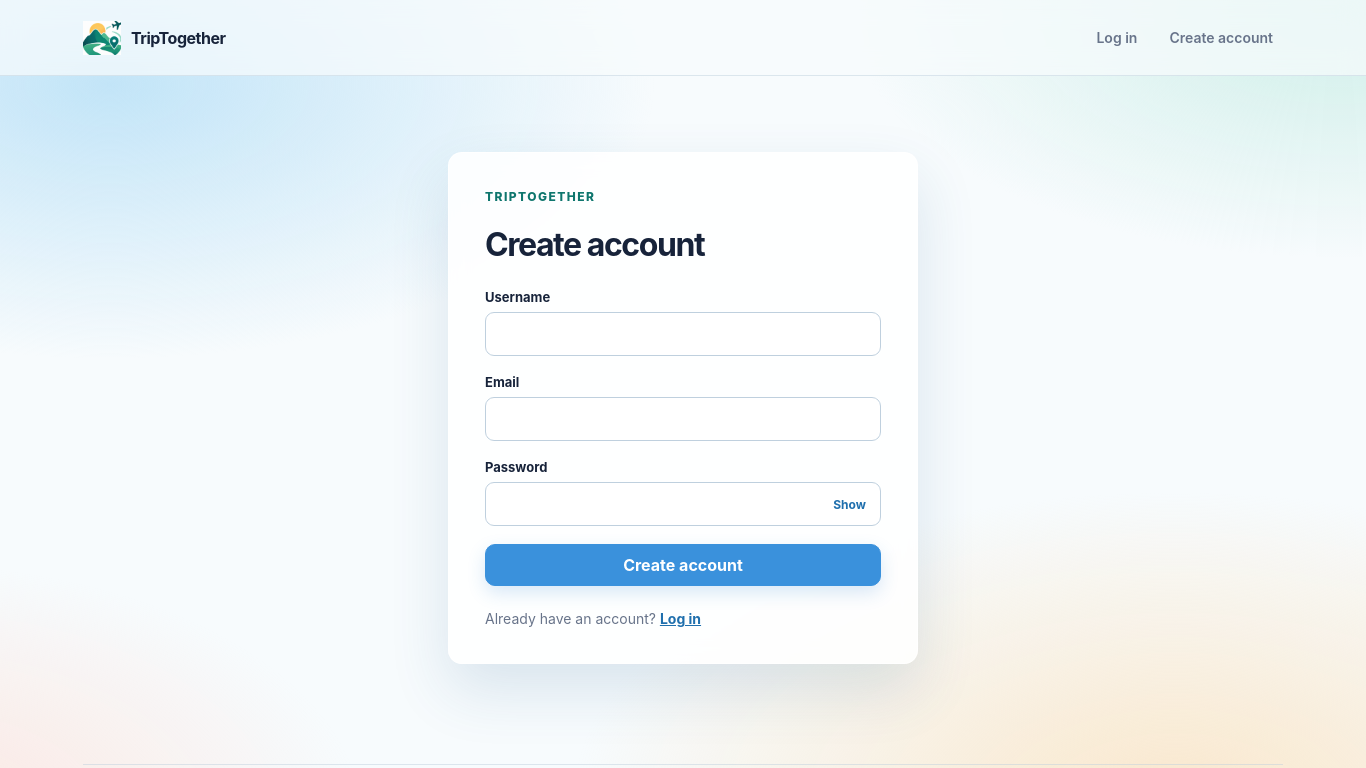
Test: Register and login pages › shows USERNAME_ALREADY_EXISTS near its field
Type "reader" into the field labelled "Username".
click(683, 334); type("reader")  # box [485,312,881,356]
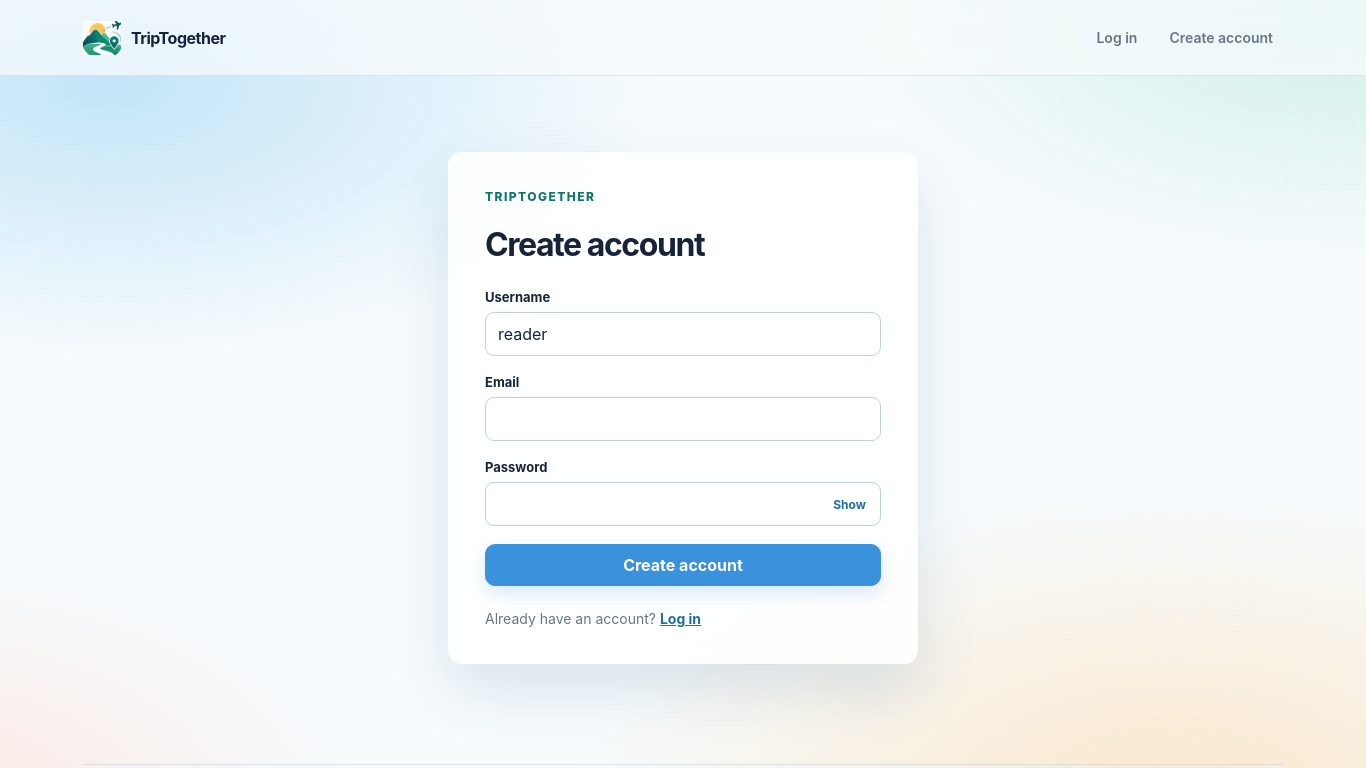
Type "reader@example.com" into the field labelled "Email".
click(683, 419); type("reader@example.com")  # box [485,397,881,441]
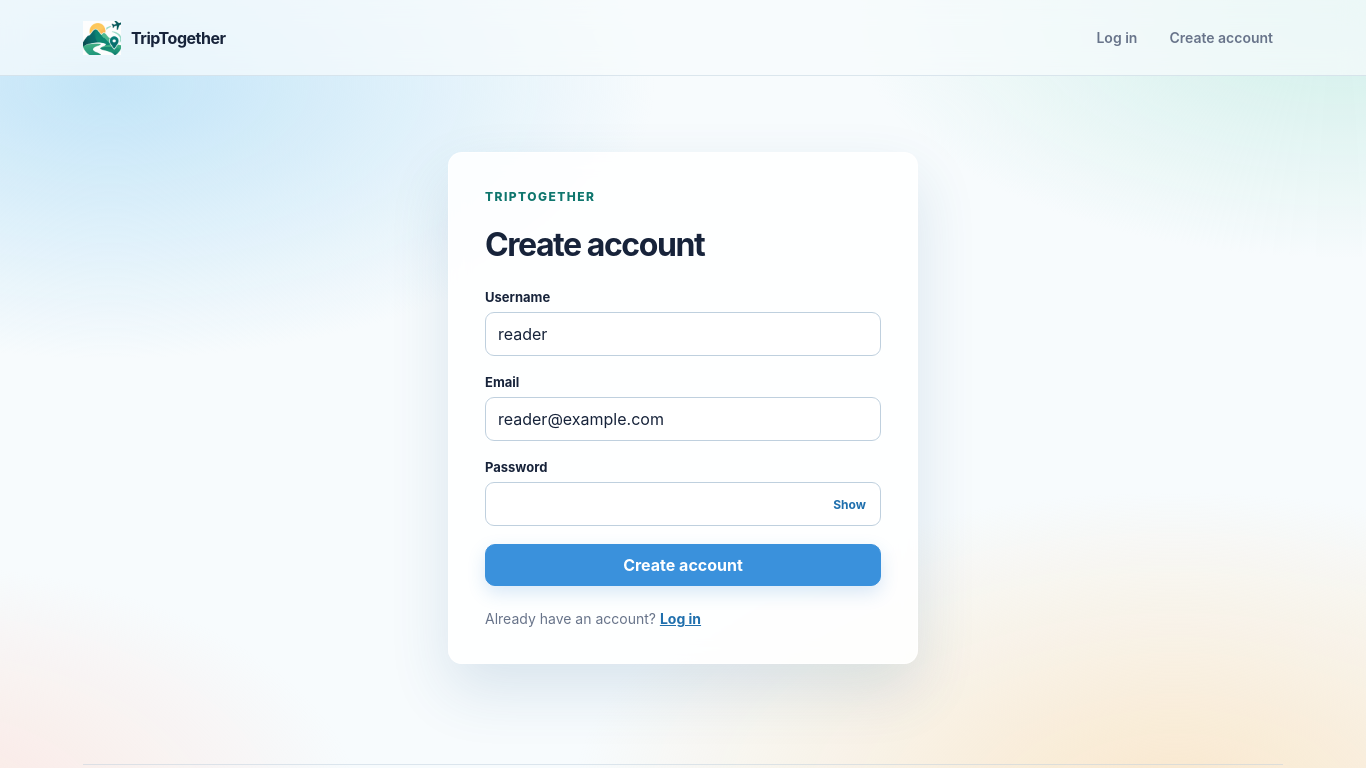
Type " local-test-input " into the password field labelled "Password".
click(683, 504); type(" local-test-input ")  # box [485,482,881,526]
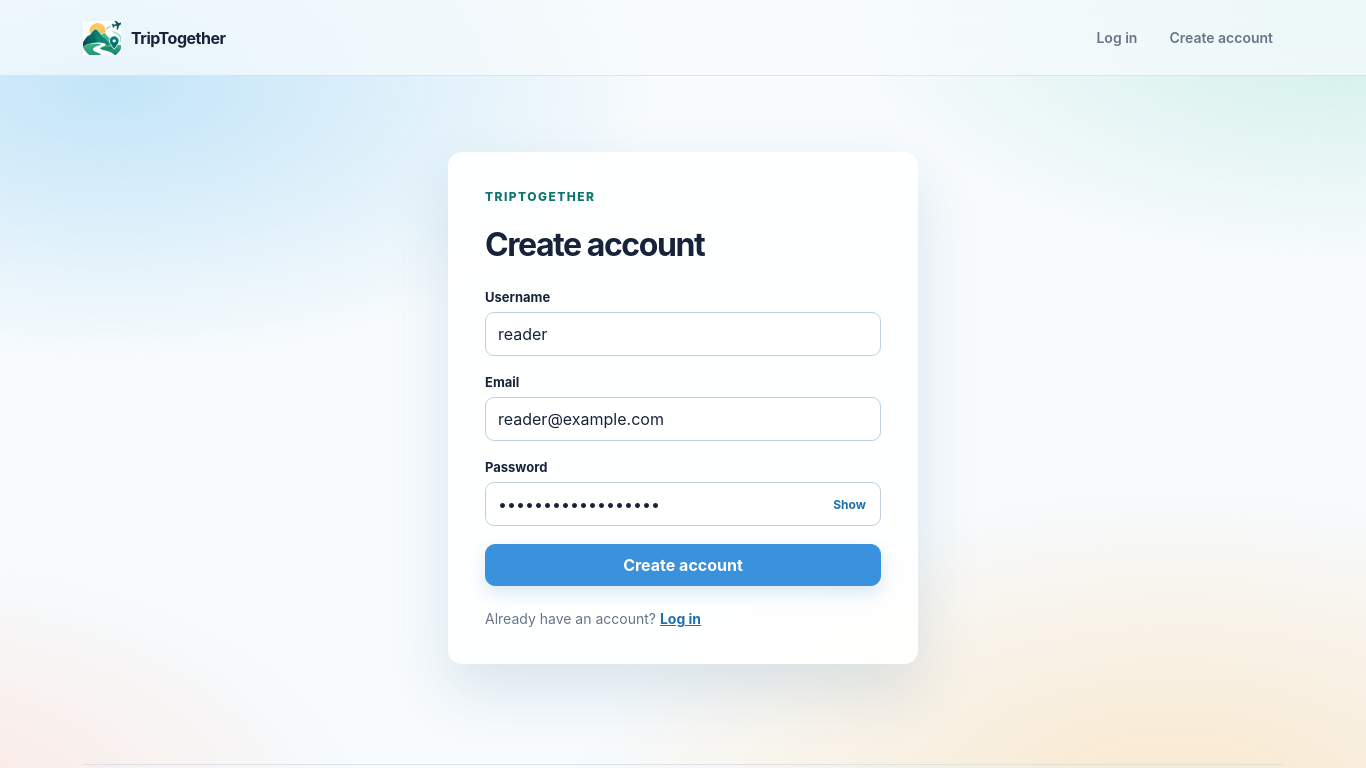
Click the button "Create account".
click(683, 565)  # box [485,544,881,586]
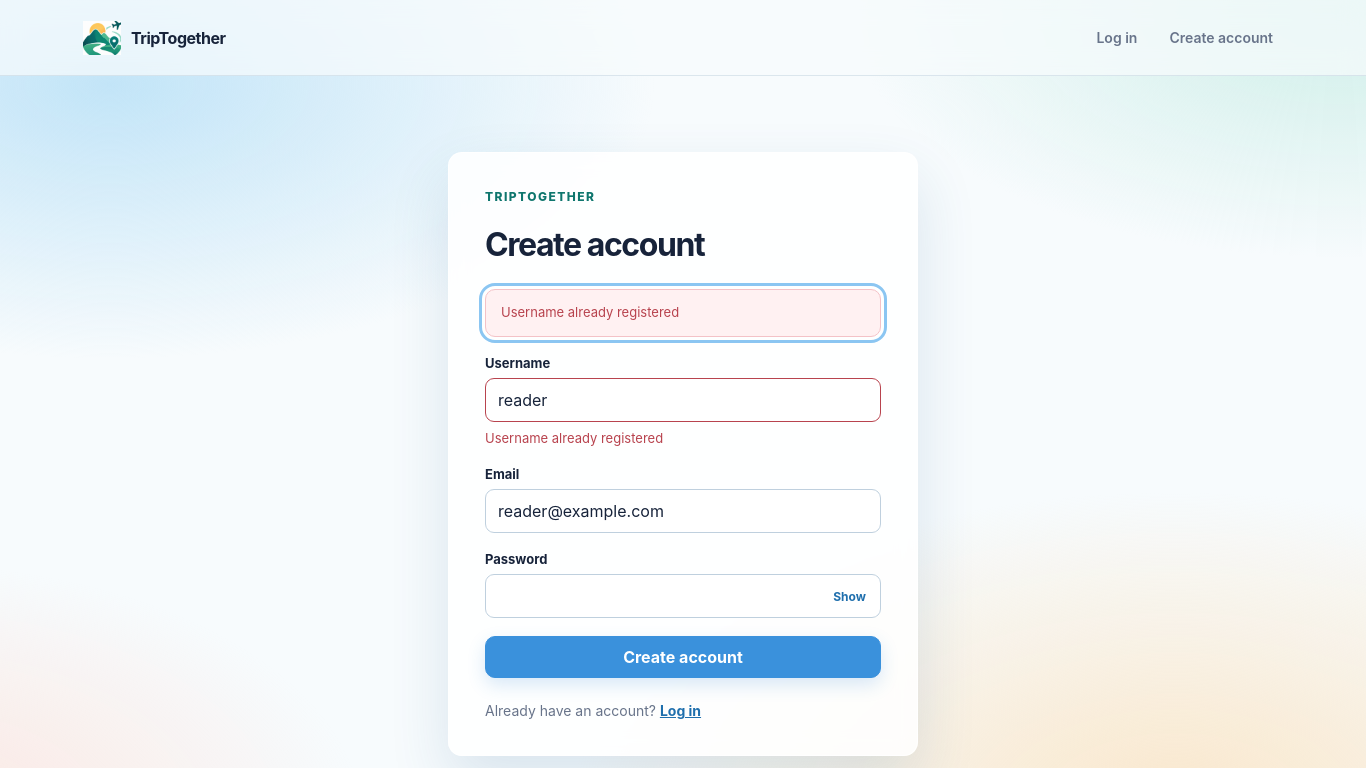
Result: the message reads "Username already registered" at [501,304,679,320]
Result: the password field labelled "Password" is empty at [485,574,881,618]
